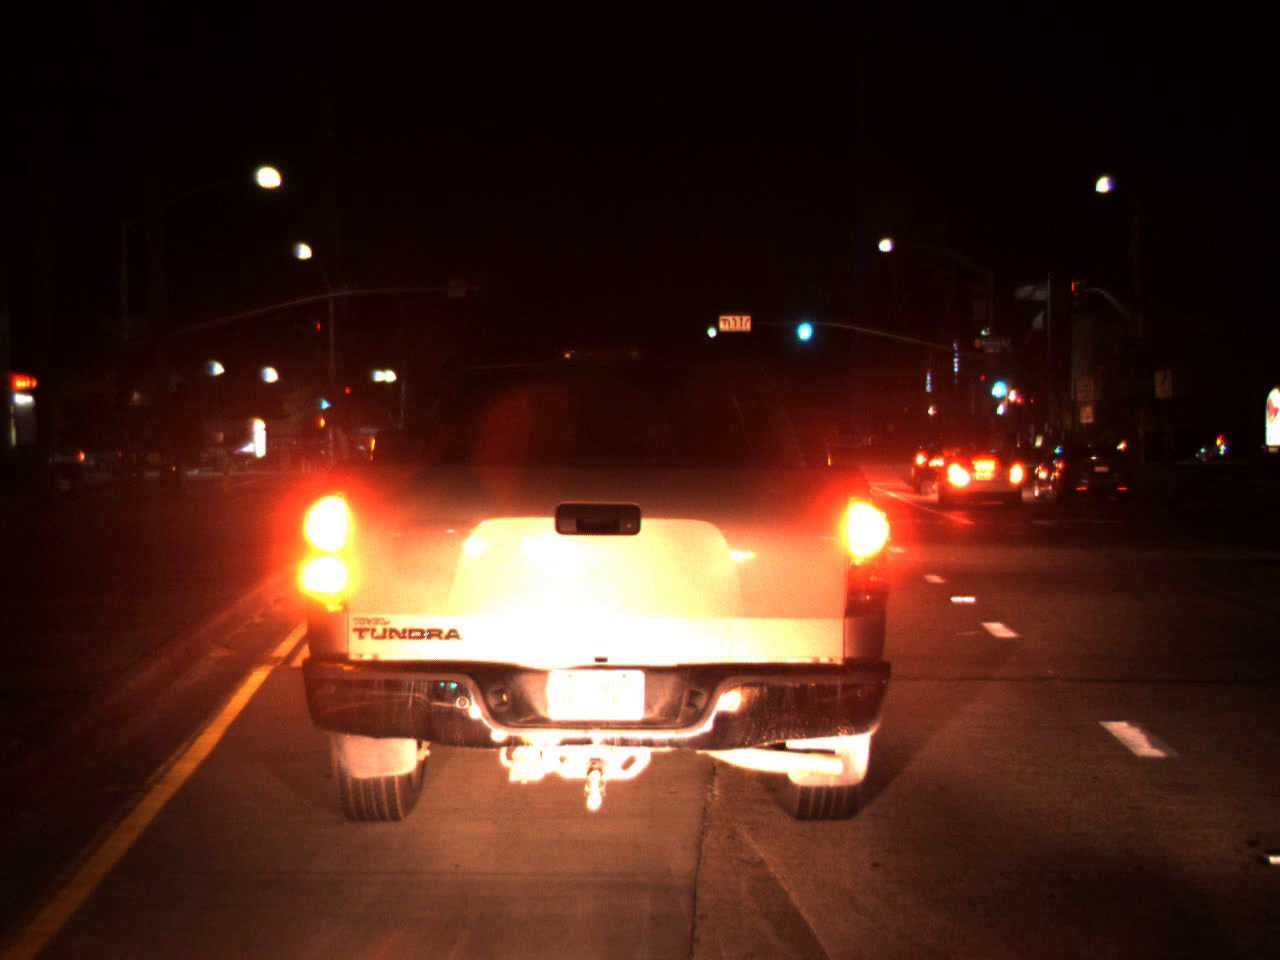go: (791, 301, 816, 348), (986, 359, 1009, 404), (702, 317, 720, 341), (317, 390, 331, 411)
